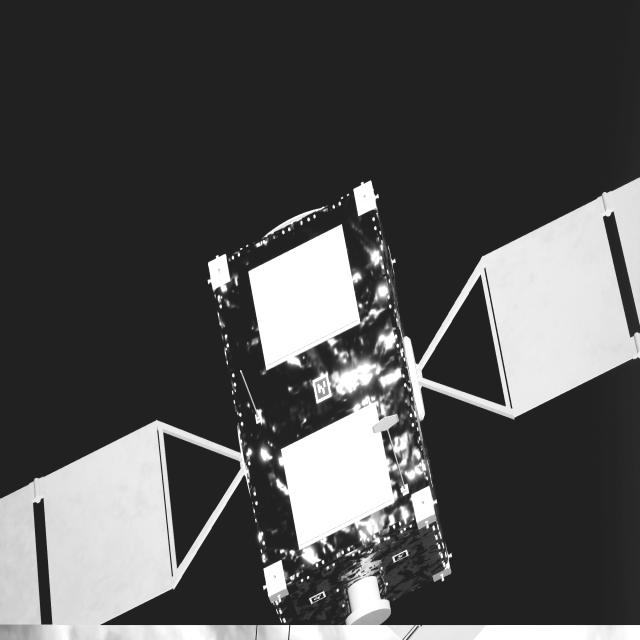medium_debris: (0, 179, 640, 628)
